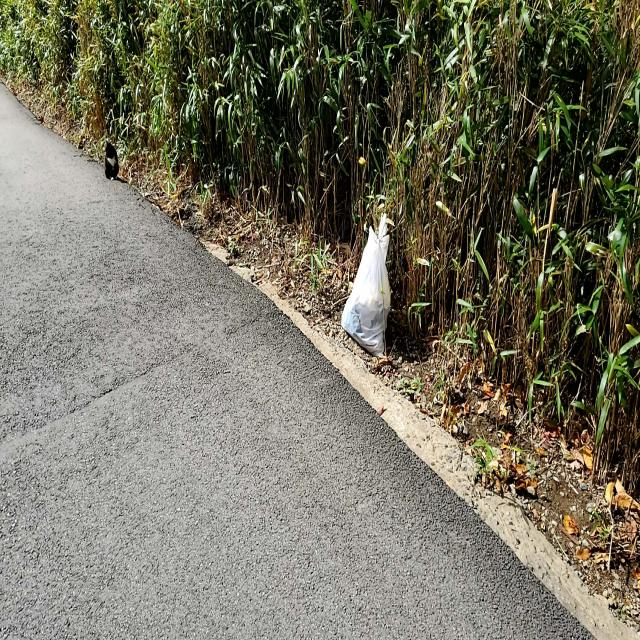garbage bag: (340, 212, 392, 358)
